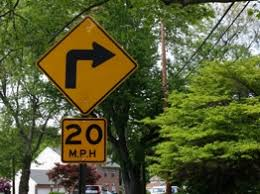right: (33, 15, 138, 115)
